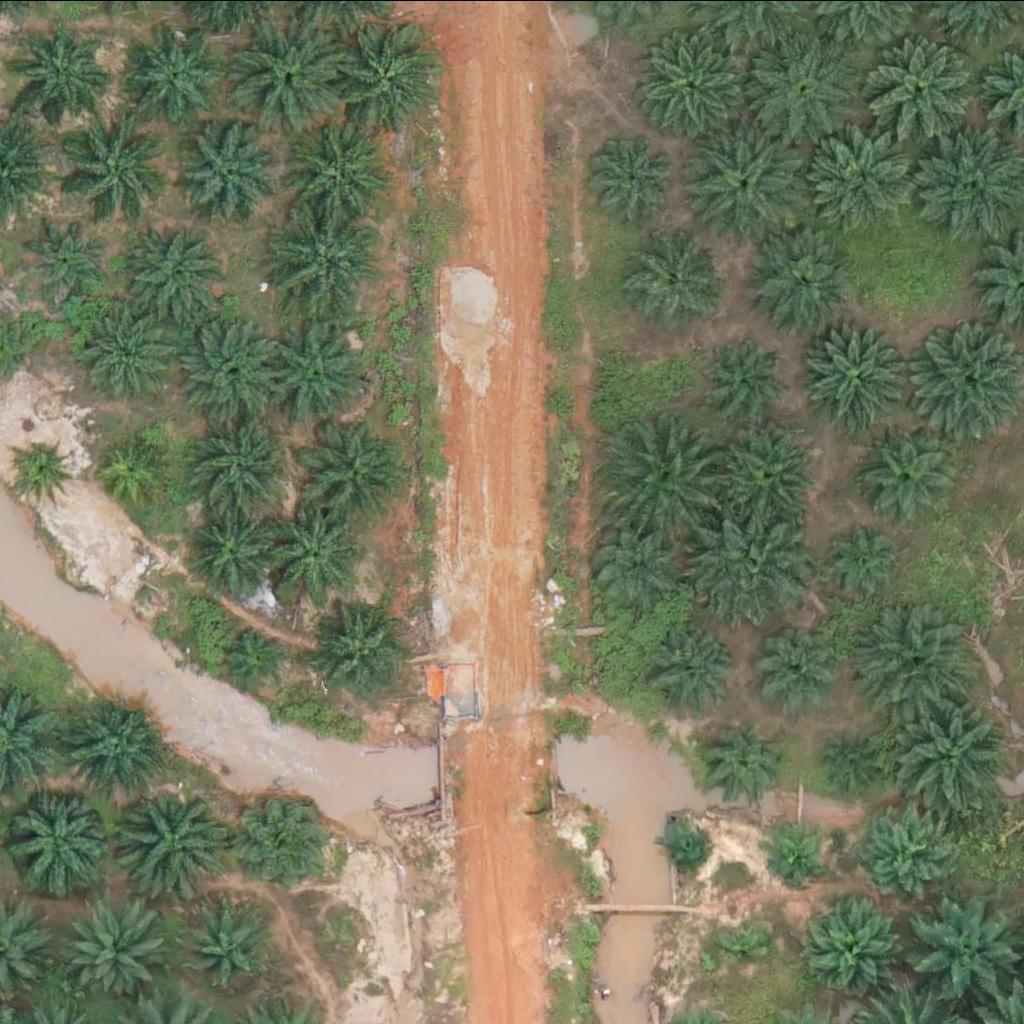Kelapa_Sawit: (866, 600, 980, 713), (867, 32, 980, 145), (638, 32, 751, 145), (808, 118, 921, 231), (889, 695, 1002, 808), (332, 18, 445, 131), (173, 313, 286, 426), (261, 316, 374, 429), (300, 414, 413, 527), (1, 780, 114, 893), (744, 34, 858, 146), (53, 107, 167, 219), (270, 209, 384, 321), (687, 121, 800, 233), (803, 316, 916, 428), (616, 419, 729, 531), (695, 509, 808, 621), (232, 20, 345, 132), (289, 119, 402, 231), (113, 782, 226, 894), (581, 127, 682, 227), (754, 232, 855, 332), (714, 425, 815, 525), (581, 519, 682, 619), (16, 26, 117, 126), (178, 124, 279, 224), (129, 224, 230, 324), (195, 416, 296, 516), (186, 501, 287, 601), (67, 699, 168, 799), (312, 599, 413, 699), (240, 791, 341, 891), (67, 903, 168, 1003), (631, 228, 731, 328), (856, 424, 956, 524), (805, 893, 905, 993), (120, 26, 220, 126), (77, 301, 177, 401), (266, 506, 366, 606), (23, 213, 111, 301), (652, 626, 741, 713), (705, 332, 793, 419), (822, 519, 910, 606), (751, 626, 839, 713), (855, 810, 943, 897), (699, 716, 787, 803), (185, 898, 273, 985), (100, 433, 175, 508), (224, 618, 299, 693), (13, 436, 76, 499), (768, 831, 819, 881), (658, 824, 708, 874), (827, 733, 877, 783), (721, 921, 771, 971)
